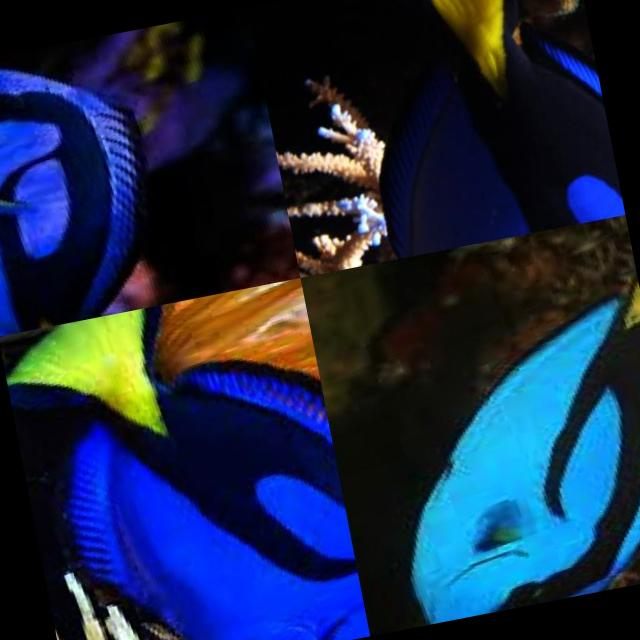BlueTang: (0, 278, 369, 640), (370, 290, 640, 625), (412, 0, 625, 246), (0, 33, 168, 333)
